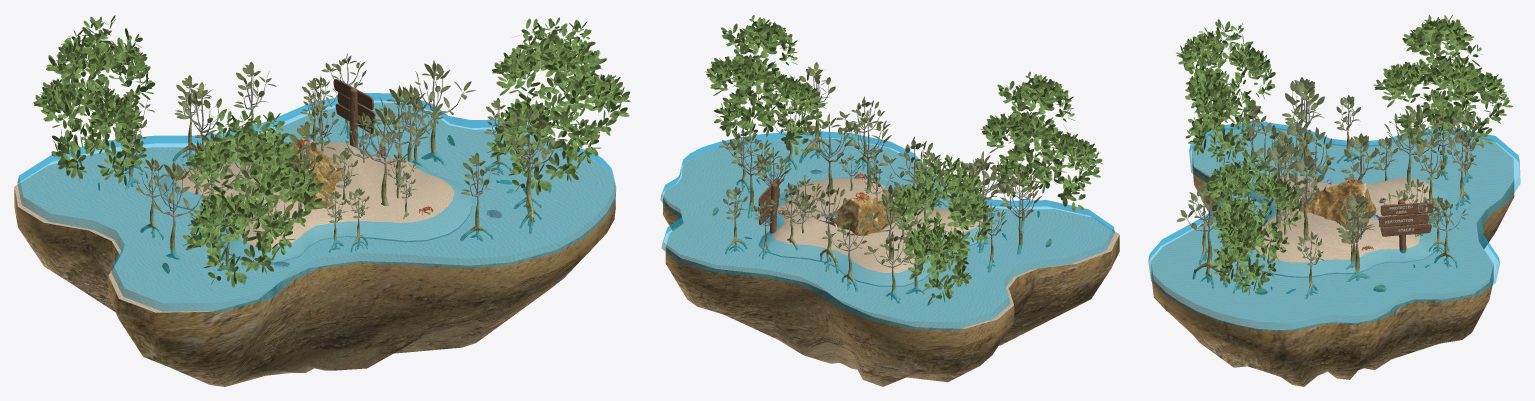
Rendered from ref-stg2.glb.
3 renders of one model, left to right at view 1: azimuth 30°, elevation 25°; view 2: azimuth 150°, elevation 25°; view 3: azimuth 270°, elevation 25°, orthographic. The views are drawn at different scales.
Visible parts, largest first — view 1: ISOLOTTI_GRP_isola_03_acqua_geo_ISOLOTTI_003_GRP, ISOLOTTI_GRP_ISOLOTTI_003_GRP_isola_03_terra_geo, isola_01_terra_geo_ISOLOTTI_001_GRP_ISOLOTTI_GRP, MI_LOD1_001.003, MI_LOD1_001.001, MI_LOD1_001.002, PLANTS_GRP_PLANT_mangrovia_J_geo.027, PLANTS_GRP_PLANT_mangrovia_J_geo.033, Rock_Sandstone-Photoscan_D_spring-summer-autumn, PLANTS_GRP_PLANT_mangrovia_J_geo.015, PLANTS_GRP_PLANT_mangrovia_J_geo.026, PLANTS_GRP_PLANT_mangrovia_J_geo.032 (+11 smaller); view 2: ISOLOTTI_GRP_isola_03_acqua_geo_ISOLOTTI_003_GRP, ISOLOTTI_GRP_ISOLOTTI_003_GRP_isola_03_terra_geo, isola_01_terra_geo_ISOLOTTI_001_GRP_ISOLOTTI_GRP, MI_LOD1_001.001, MI_LOD1_001.003, MI_LOD1_001.002, Rock_Sandstone-Photoscan_D_spring-summer-autumn, PLANTS_GRP_PLANT_mangrovia_J_geo.033, PLANTS_GRP_PLANT_mangrovia_J_geo.012, PLANTS_GRP_PLANT_mangrovia_J_geo.032, PLANTS_GRP_PLANT_mangrovia_J_geo.026, PLANTS_GRP_PLANT_mangrovia_J_geo.015 (+15 smaller); view 3: ISOLOTTI_GRP_isola_03_acqua_geo_ISOLOTTI_003_GRP, ISOLOTTI_GRP_ISOLOTTI_003_GRP_isola_03_terra_geo, MI_LOD1_001.002, isola_01_terra_geo_ISOLOTTI_001_GRP_ISOLOTTI_GRP, MI_LOD1_001.001, MI_LOD1_001.003, Rock_Sandstone-Photoscan_D_spring-summer-autumn, PLANTS_GRP_PLANT_mangrovia_J_geo.026, PLANTS_GRP_PLANT_mangrovia_J_geo.004, PLANTS_GRP_PLANT_mangrovia_J_geo.032, PLANTS_GRP_PLANT_mangrovia_J_geo.027, PLANTS_GRP_PLANT_mangrovia_J_geo.017 (+24 smaller).
Part boxes in pixels (x1=…): ISOLOTTI_GRP_isola_03_acqua_geo_ISOLOTTI_003_GRP: x1=14, y1=102, x2=615, y2=386; ISOLOTTI_GRP_ISOLOTTI_003_GRP_isola_03_terra_geo: x1=17, y1=93, x2=615, y2=311; isola_01_terra_geo_ISOLOTTI_001_GRP_ISOLOTTI_GRP: x1=157, y1=141, x2=472, y2=263; MI_LOD1_001.003: x1=182, y1=109, x2=324, y2=287; MI_LOD1_001.001: x1=486, y1=17, x2=630, y2=195; MI_LOD1_001.002: x1=33, y1=15, x2=155, y2=190; PLANTS_GRP_PLANT_mangrovia_J_geo.027: x1=502, y1=107, x2=567, y2=233; PLANTS_GRP_PLANT_mangrovia_J_geo.033: x1=353, y1=104, x2=430, y2=205; Rock_Sandstone-Photoscan_D_spring-summer-autumn: x1=277, y1=138, x2=346, y2=209; PLANTS_GRP_PLANT_mangrovia_J_geo.015: x1=144, y1=161, x2=216, y2=259; PLANTS_GRP_PLANT_mangrovia_J_geo.026: x1=404, y1=60, x2=476, y2=165; PLANTS_GRP_PLANT_mangrovia_J_geo.032: x1=368, y1=85, x2=444, y2=186; ISOLOTTI_GRP_isola_03_acqua_geo_ISOLOTTI_003_GRP: x1=663, y1=138, x2=1119, y2=386; ISOLOTTI_GRP_ISOLOTTI_003_GRP_isola_03_terra_geo: x1=660, y1=131, x2=1114, y2=329; isola_01_terra_geo_ISOLOTTI_001_GRP_ISOLOTTI_GRP: x1=758, y1=177, x2=997, y2=286; MI_LOD1_001.001: x1=705, y1=15, x2=826, y2=156; MI_LOD1_001.003: x1=980, y1=71, x2=1103, y2=217; MI_LOD1_001.002: x1=888, y1=154, x2=995, y2=305; Rock_Sandstone-Photoscan_D_spring-summer-autumn: x1=826, y1=197, x2=904, y2=236; PLANTS_GRP_PLANT_mangrovia_J_geo.033: x1=842, y1=110, x2=891, y2=193; PLANTS_GRP_PLANT_mangrovia_J_geo.012: x1=797, y1=184, x2=851, y2=273; PLANTS_GRP_PLANT_mangrovia_J_geo.032: x1=802, y1=113, x2=852, y2=197; PLANTS_GRP_PLANT_mangrovia_J_geo.026: x1=725, y1=130, x2=771, y2=218; PLANTS_GRP_PLANT_mangrovia_J_geo.015: x1=994, y1=172, x2=1041, y2=254; ISOLOTTI_GRP_isola_03_acqua_geo_ISOLOTTI_003_GRP: x1=1151, y1=125, x2=1514, y2=386; ISOLOTTI_GRP_ISOLOTTI_003_GRP_isola_03_terra_geo: x1=1148, y1=121, x2=1520, y2=330; MI_LOD1_001.002: x1=1373, y1=14, x2=1513, y2=161; isola_01_terra_geo_ISOLOTTI_001_GRP_ISOLOTTI_GRP: x1=1227, y1=174, x2=1447, y2=277; MI_LOD1_001.001: x1=1202, y1=149, x2=1302, y2=295; MI_LOD1_001.003: x1=1176, y1=19, x2=1275, y2=165; Rock_Sandstone-Photoscan_D_spring-summer-autumn: x1=1299, y1=180, x2=1375, y2=228; PLANTS_GRP_PLANT_mangrovia_J_geo.026: x1=1338, y1=194, x2=1375, y2=281; PLANTS_GRP_PLANT_mangrovia_J_geo.004: x1=1285, y1=79, x2=1324, y2=176; PLANTS_GRP_PLANT_mangrovia_J_geo.032: x1=1288, y1=156, x2=1324, y2=241; PLANTS_GRP_PLANT_mangrovia_J_geo.027: x1=1177, y1=187, x2=1232, y2=288; PLANTS_GRP_PLANT_mangrovia_J_geo.017: x1=1384, y1=108, x2=1445, y2=185.
Size of what is drawn, in the model's own units: 0.714 by 0.45 by 0.5423.
Materials: 17 (15 with a texture image).
